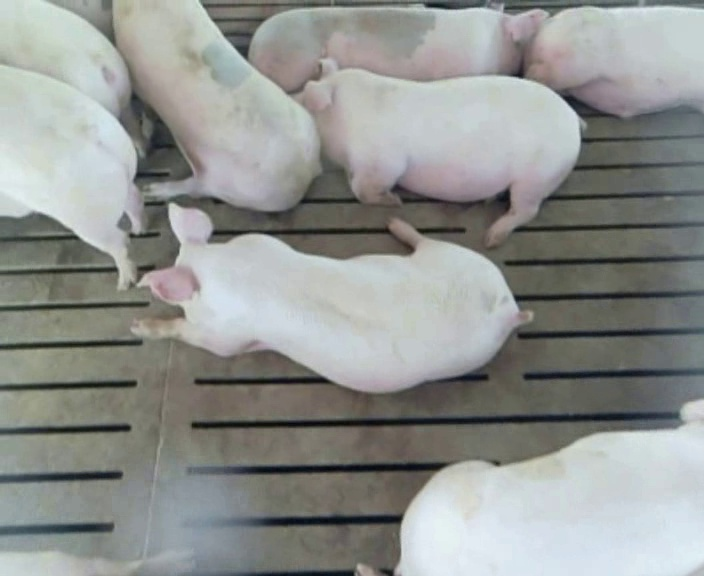pig: (131, 203, 529, 392), (288, 57, 586, 246), (113, 2, 320, 211), (249, 2, 546, 91), (525, 7, 703, 116)
